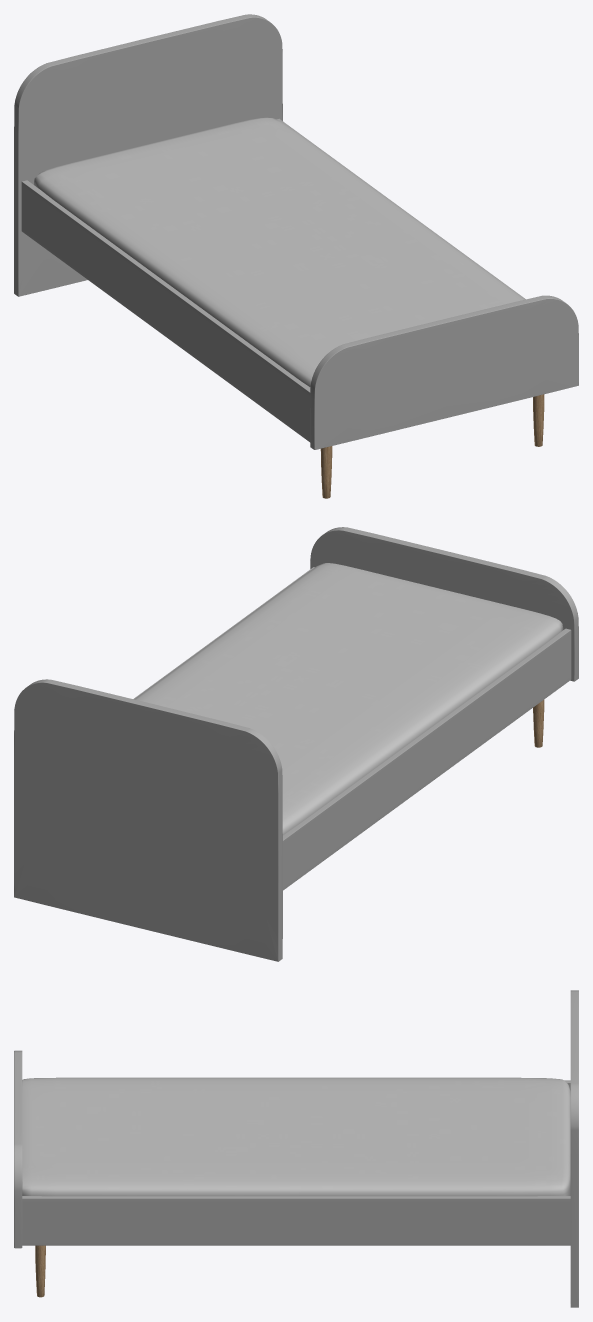
The picture shows the model from 3 angles, top to bottom: view 1: azimuth 30°, elevation 25°; view 2: azimuth 150°, elevation 25°; view 3: azimuth 270°, elevation 25°; orthographic projection. The views are drawn at different scales.
Visible parts, largest first — view 1: RootNode; view 2: RootNode; view 3: RootNode.
Part boxes in pixels (x1,y1,x2,y2): RootNode: [14, 14, 578, 498]; RootNode: [14, 527, 578, 961]; RootNode: [14, 990, 578, 1307].
Bounding box in the file's own units: 0.9981 × 0.8047 × 1.96.
1 material, 1 textured.
